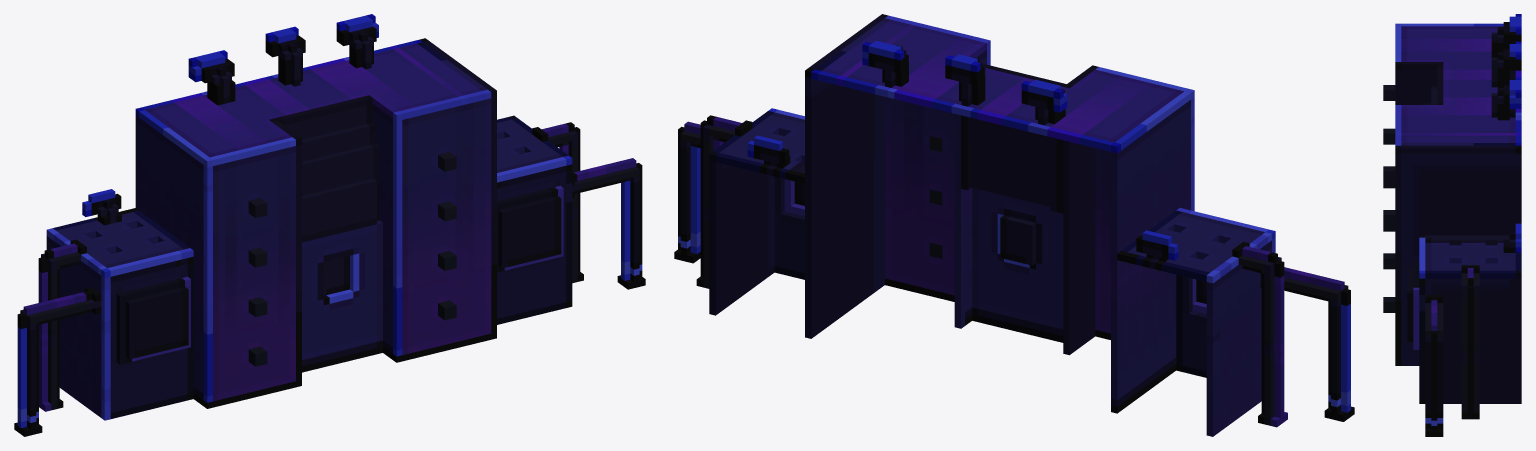
Rendered from power station.obj.
The picture shows the model from 3 angles, left to right: view 1: azimuth 30°, elevation 25°; view 2: azimuth 150°, elevation 25°; view 3: azimuth 270°, elevation 25°; orthographic projection. The views are drawn at different scales.
Bounding box in the file's own units: 10.5 × 4.7 × 2.3.
